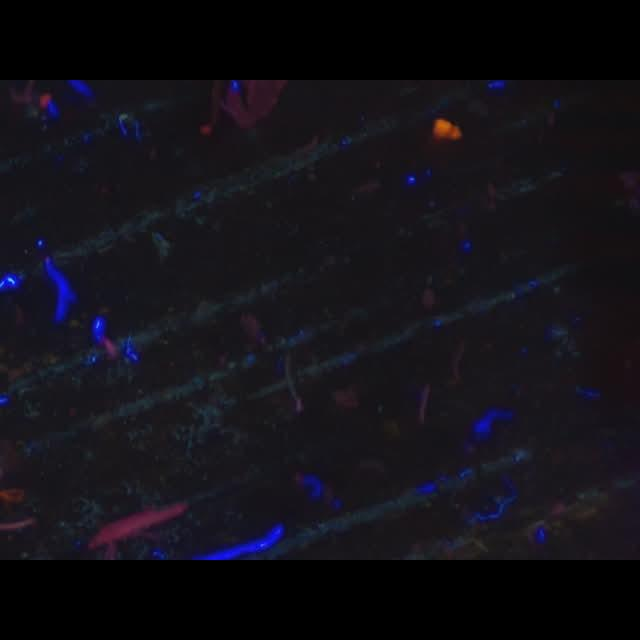Fragment: (84, 502, 186, 556)
